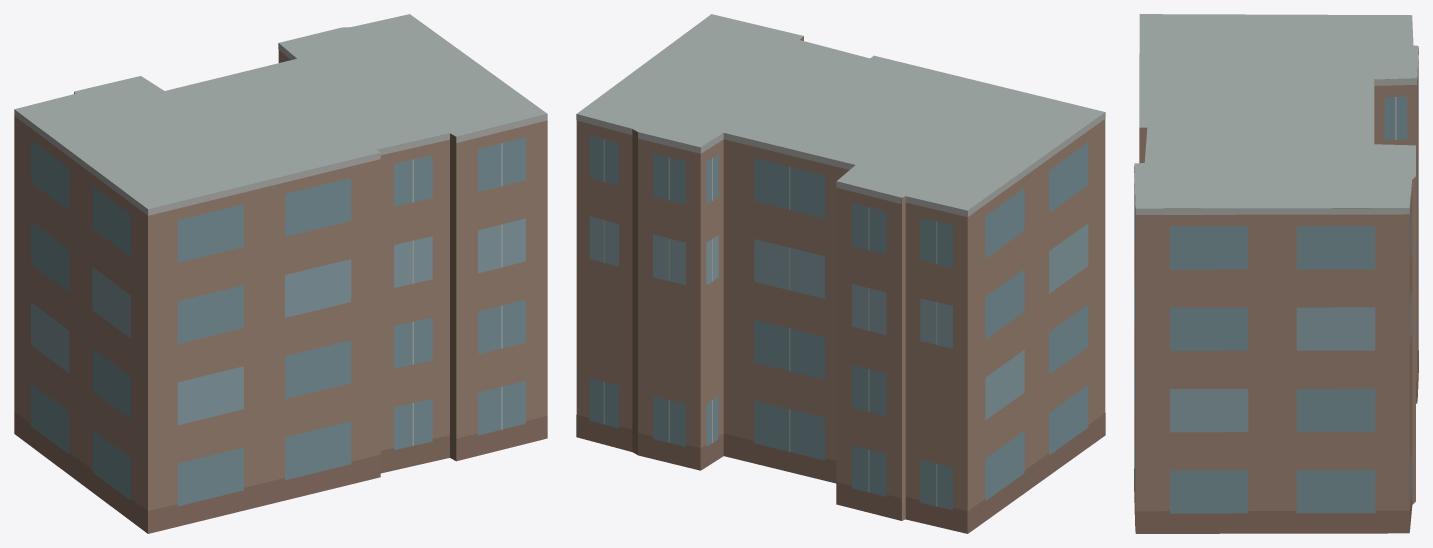
The model's file is survey-upis-32592946.glb.
3 views of the same model, side by side, from view 1: azimuth 30°, elevation 25°; view 2: azimuth 150°, elevation 25°; view 3: azimuth 270°, elevation 25° (orthographic).
Visible parts, largest first — view 1: survey-upis-32592946.tmp; view 2: survey-upis-32592946.tmp; view 3: survey-upis-32592946.tmp.
Part boxes in pixels (x1=…): survey-upis-32592946.tmp: x1=14, y1=14, x2=547, y2=533; survey-upis-32592946.tmp: x1=576, y1=14, x2=1105, y2=533; survey-upis-32592946.tmp: x1=1134, y1=14, x2=1418, y2=533.
Size of the model in its own units: 15.65 by 12.2 by 9.68.
